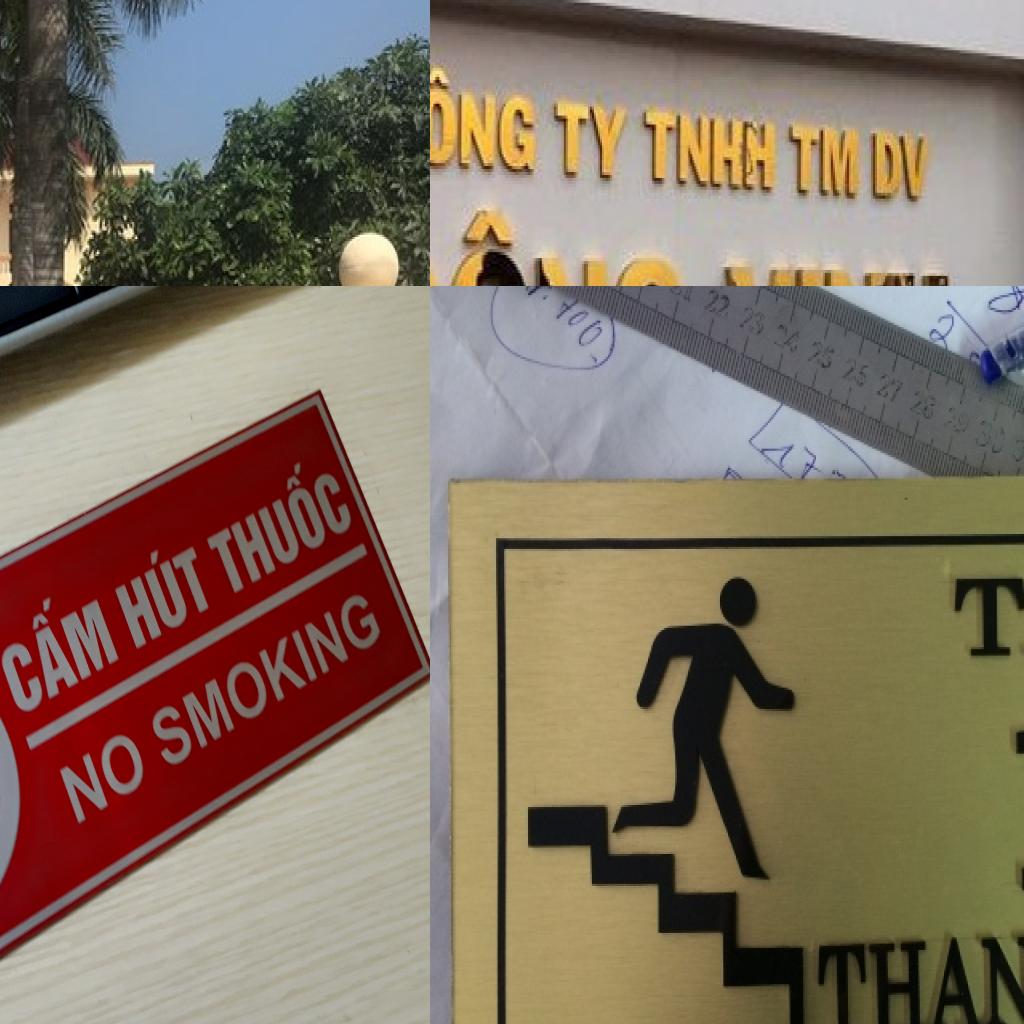text: (148, 588, 382, 771), (430, 198, 690, 286), (812, 922, 1024, 1024), (0, 578, 119, 716), (640, 100, 777, 204), (430, 59, 537, 189), (108, 536, 215, 650), (58, 728, 150, 826), (953, 540, 1024, 661), (552, 92, 632, 193), (787, 118, 865, 208), (867, 122, 935, 204), (758, 421, 824, 487), (560, 304, 611, 359), (976, 412, 1014, 462), (922, 300, 960, 350), (774, 314, 808, 364), (808, 329, 843, 374), (842, 346, 875, 393), (909, 384, 942, 430), (704, 286, 736, 329), (940, 402, 974, 442), (877, 365, 909, 406), (741, 301, 771, 342), (1009, 431, 1024, 472)
